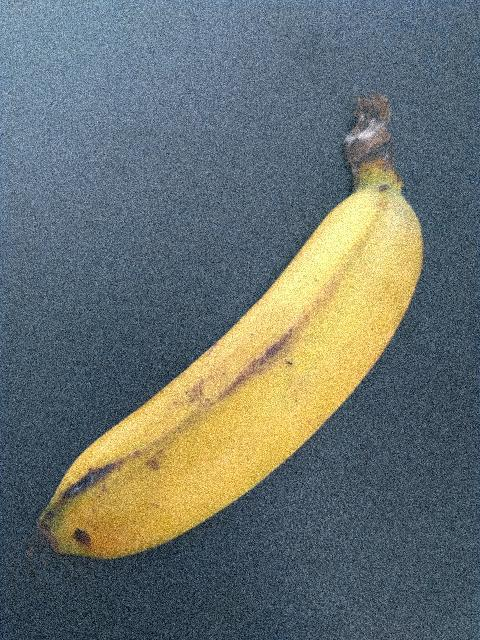freshripe: (1, 171, 433, 616)
